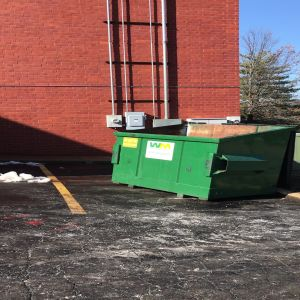Dumpster: (108, 120, 298, 206)
